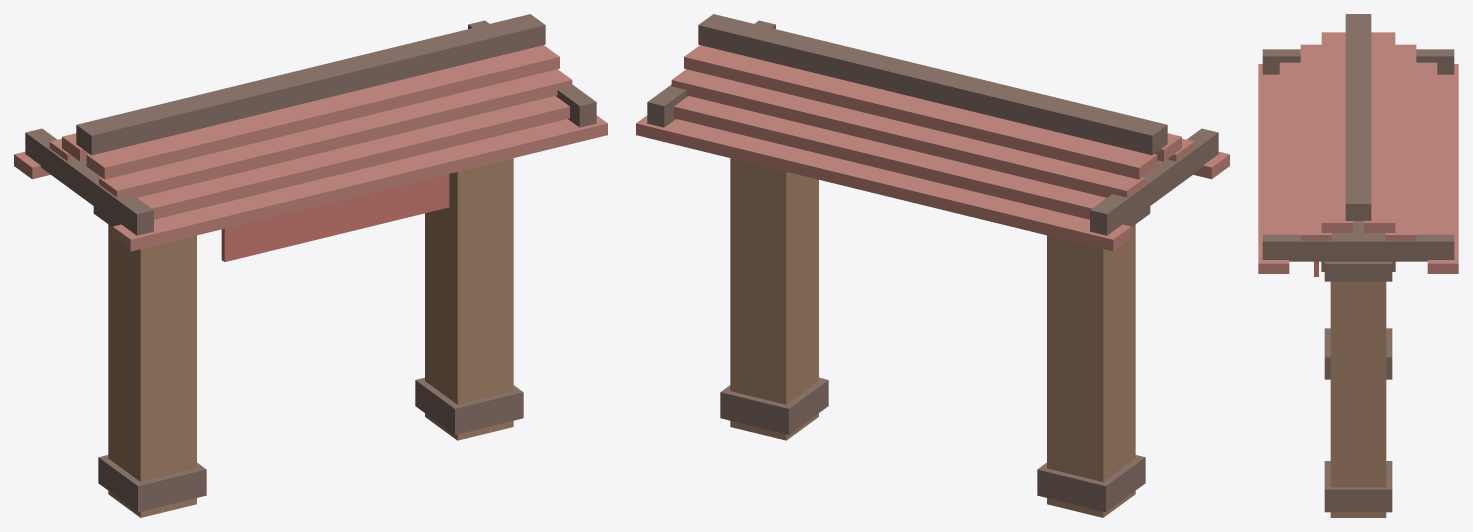
File: gate_wood_6m.glb
3 views of the same model, side by side, from view 1: azimuth 30°, elevation 25°; view 2: azimuth 150°, elevation 25°; view 3: azimuth 270°, elevation 25° (orthographic). The views are drawn at different scales.
Visible parts, largest first — view 1: roof_red, wood, wood_dark, cloth; view 2: roof_red, wood, wood_dark; view 3: roof_red, wood_dark, wood.
Part boxes in pixels (<box>): roof_red: <box>14,45,607,251</box>; wood: <box>108,158,513,517</box>; wood_dark: <box>25,14,596,512</box>; cloth: <box>221,174,449,261</box>; roof_red: <box>636,45,1229,251</box>; wood: <box>730,158,1135,517</box>; wood_dark: <box>647,14,1218,512</box>; roof_red: <box>1258,32,1458,273</box>; wood_dark: <box>1262,14,1454,512</box>; wood: <box>1330,281,1386,517</box>.
Size of the model in its own units: 7.65 by 5.91 by 3.24.
